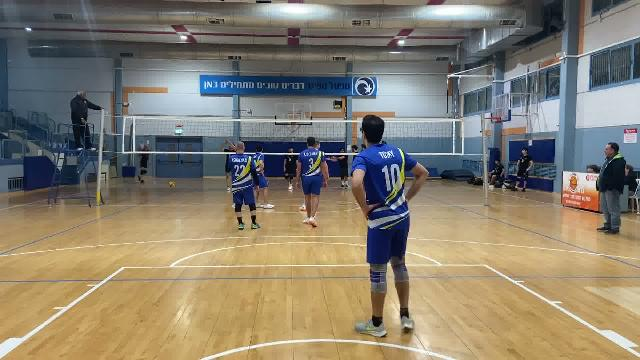ball: (167, 177, 179, 191)
